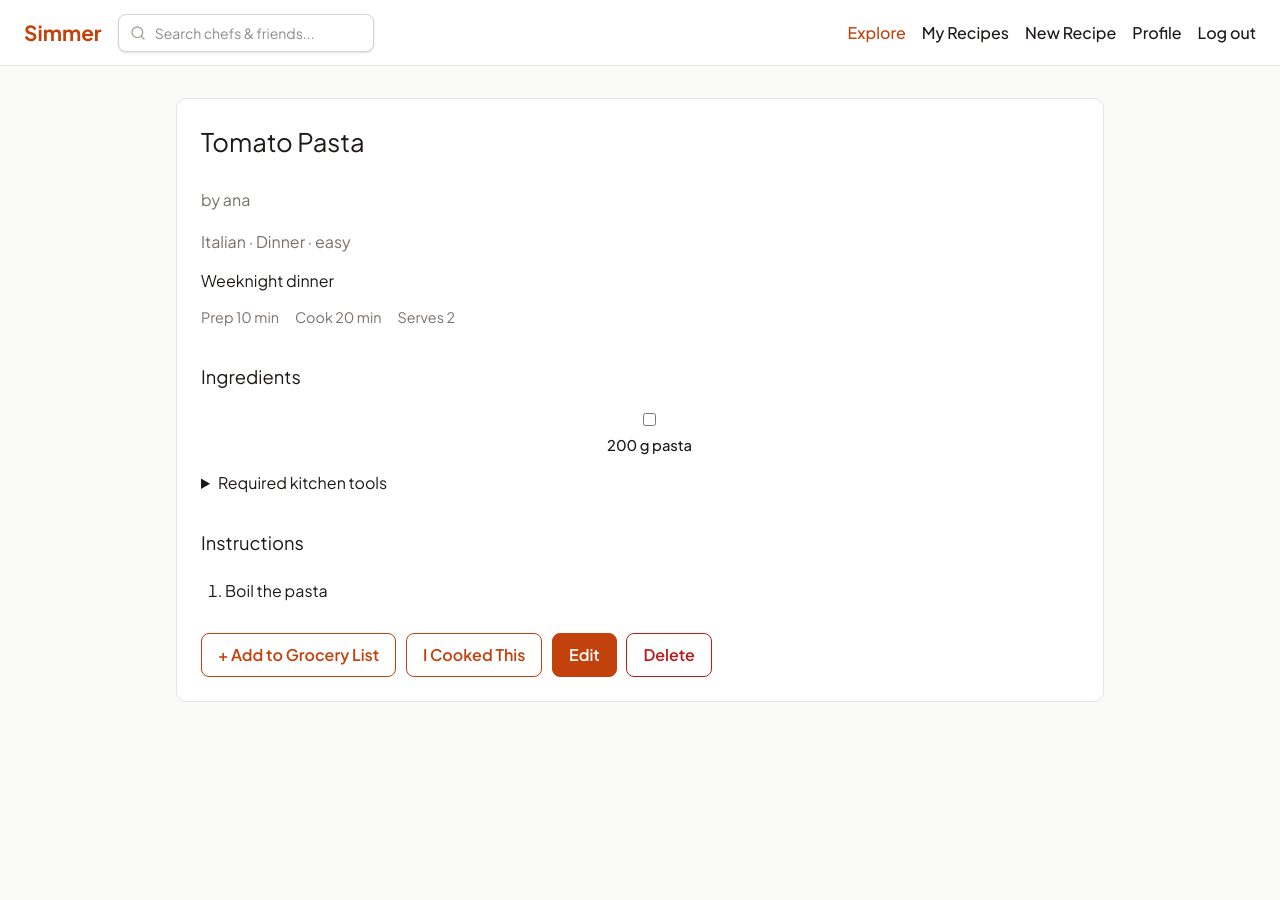
Scenario: US2.3 cooking-log behavior › opens a named dialog and cancels without recording an event
expect the heading "Tomato Pasta" is shown: met, box [201,125,365,158]
expect the button "Log out" is shown: met, box [1198,21,1256,45]
Step 1. Click the button "I Cooked This" → (474, 655), box [406,633,542,677]
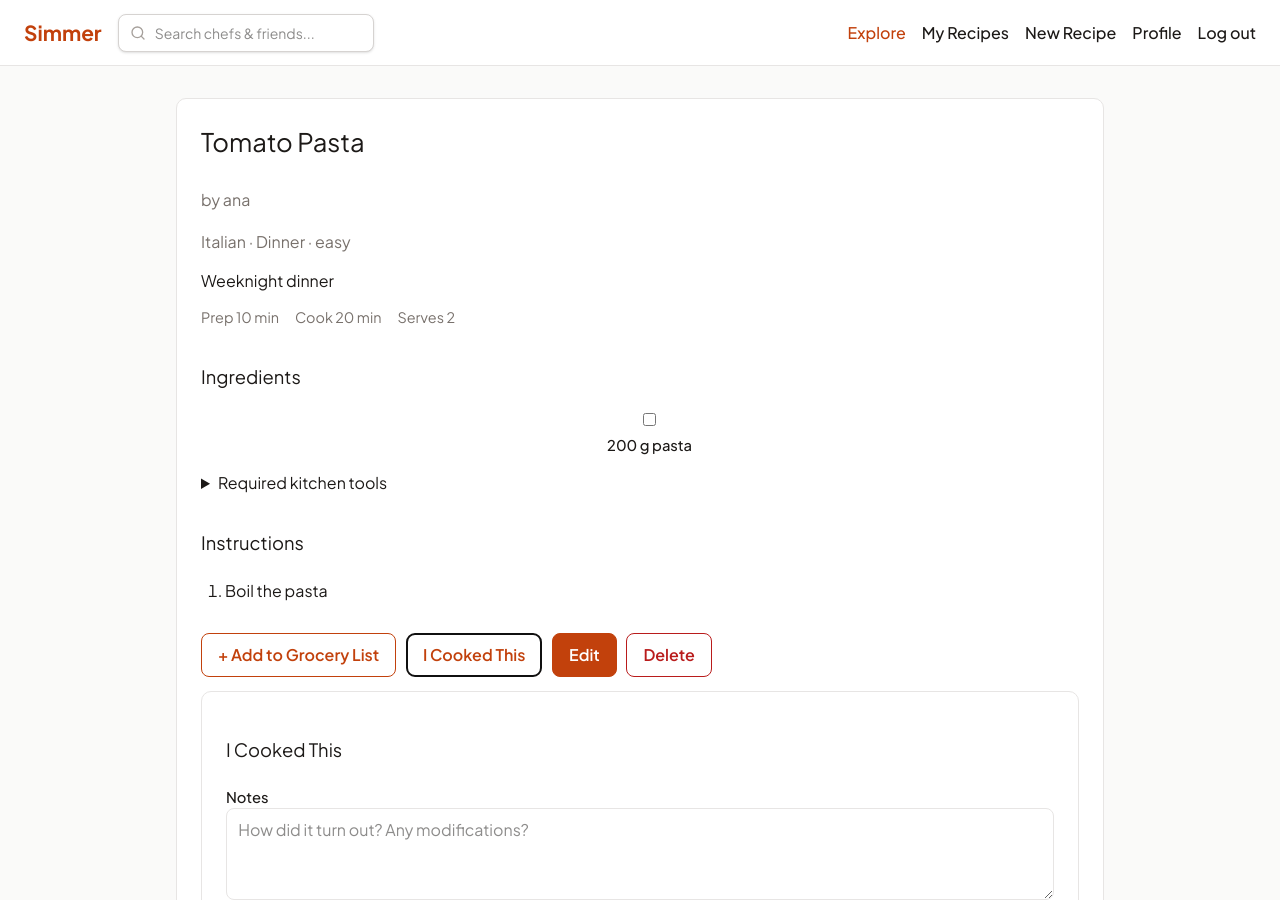
Step 2. Type "Trying this recipe" into the text box labelled "Notes" → (640, 854), box [226,808,1054,899]
(page scrolled)
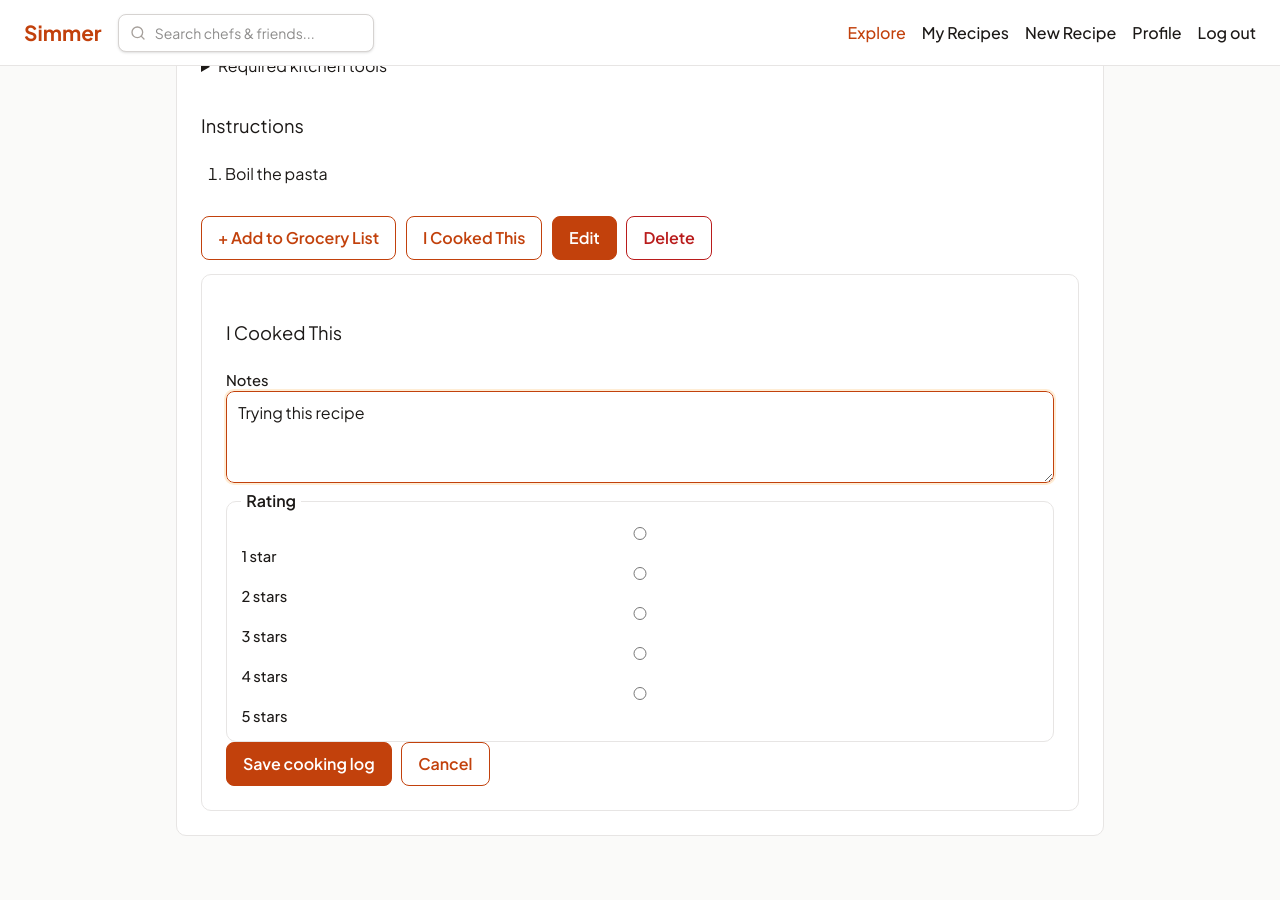
Step 3. Click the button "Cancel" → (445, 764), box [401,742,490,786]
(page scrolled)
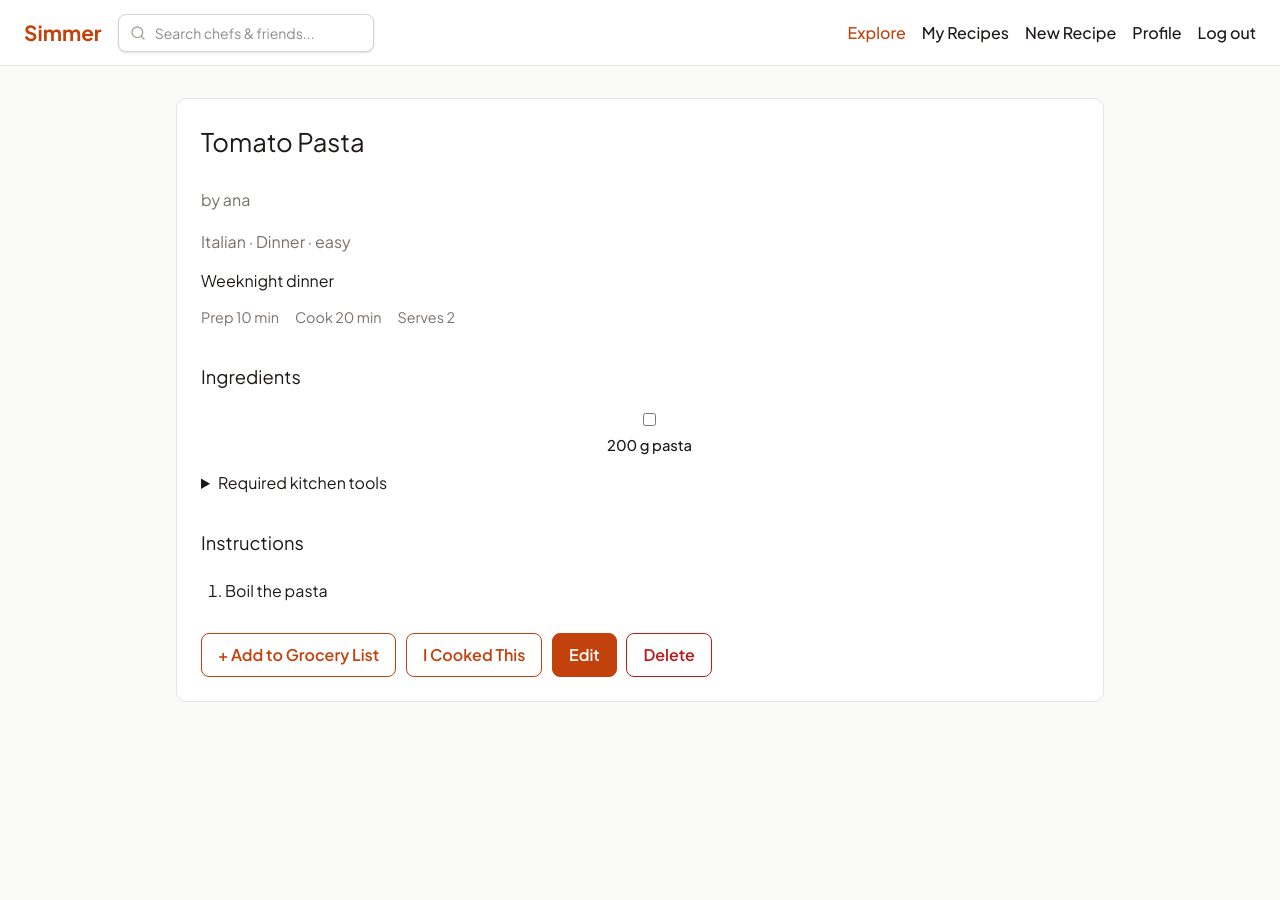
expect the dialog is gone: met
